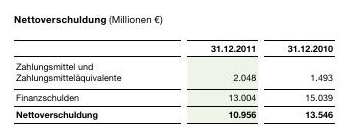table: (0, 0, 345, 134)
